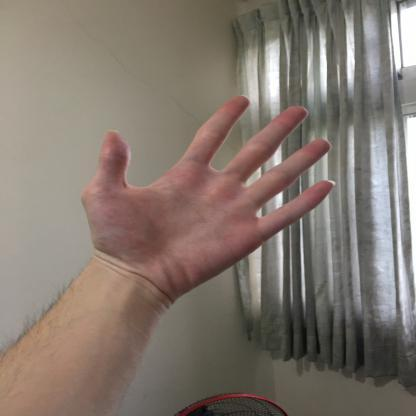bare_hand: (76, 86, 345, 317)
